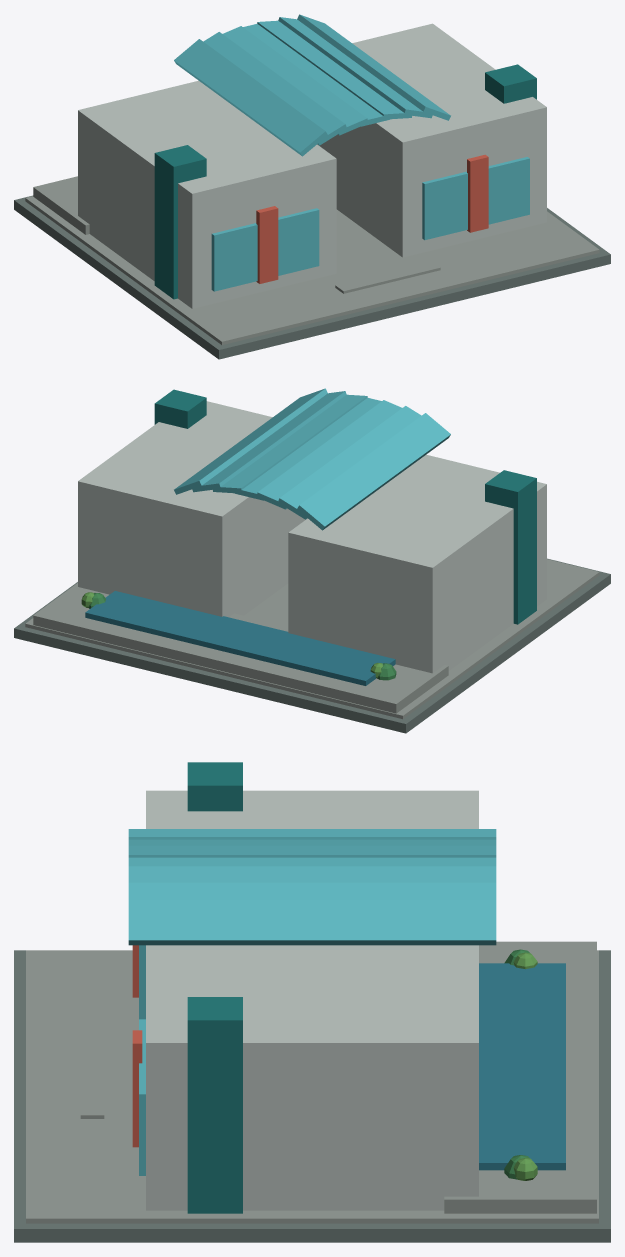
File: metro_station_lv3.glb
The picture shows the model from 3 angles, top to bottom: view 1: azimuth 30°, elevation 25°; view 2: azimuth 150°, elevation 25°; view 3: azimuth 270°, elevation 25°; orthographic projection. The views are drawn at different scales.
Parts seen in each view (by area): view 1: rough, glossy; view 2: rough, glossy; view 3: rough, glossy.
Boxes of the visible parts, x1,y1,x2,y2 form: rough: (14,23,610,359); glossy: (174,14,529,291); rough: (14,389,610,733); glossy: (85,388,450,685); rough: (14,762,610,1242); glossy: (128,829,565,1175).
Size of the model in its own units: 9.5 by 3.86 by 8.6.
